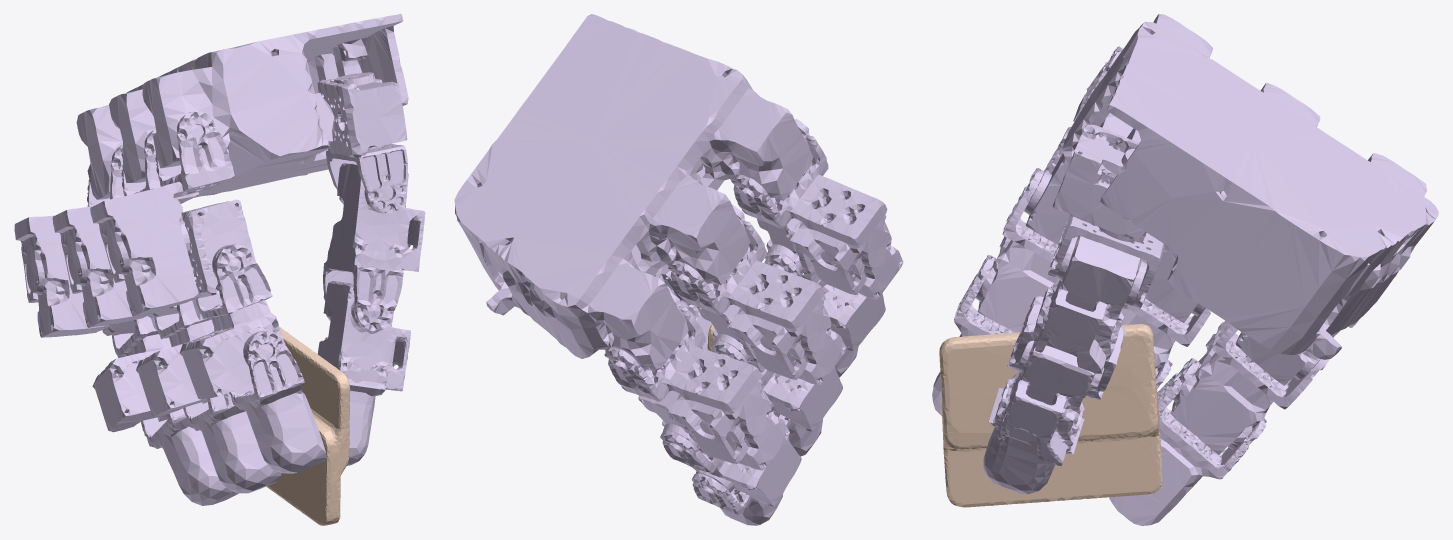
The picture shows the model from 3 angles, left to right: view 1: azimuth 30°, elevation 25°; view 2: azimuth 150°, elevation 25°; view 3: azimuth 270°, elevation 25°; orthographic projection. The views are drawn at different scales.
Parts seen in each view (by area): view 1: LEAP_hand, world; view 2: LEAP_hand; view 3: LEAP_hand, world.
Boxes of the visible parts, x1,y1,x2,y2 form: LEAP_hand: [14, 14, 425, 505]; world: [266, 326, 350, 525]; LEAP_hand: [454, 14, 903, 525]; LEAP_hand: [932, 14, 1438, 525]; world: [939, 324, 1162, 507].
Size of the model in its own units: 0.149 by 0.1978 by 0.1778.
